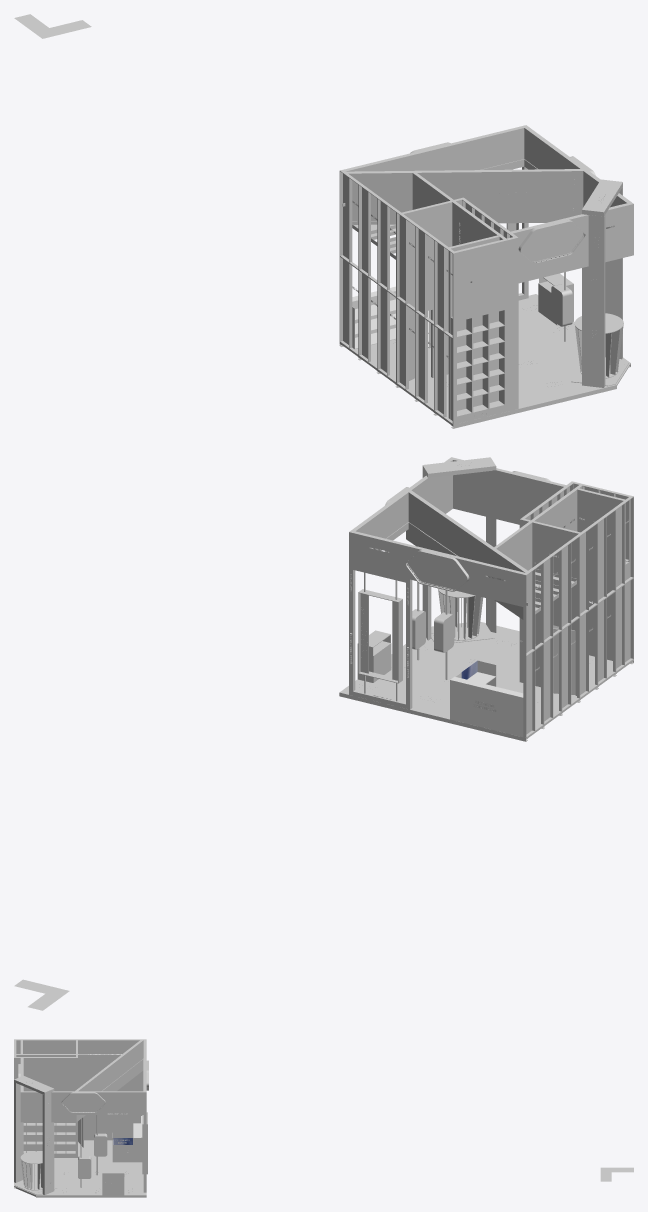
Rendered from Food_20_Indomie_CONST_PROXY.glb.
The picture shows the model from 3 angles, top to bottom: view 1: azimuth 30°, elevation 25°; view 2: azimuth 150°, elevation 25°; view 3: azimuth 270°, elevation 25°; orthographic projection. The views are drawn at different scales.
Visible parts, largest first — view 1: Geom3D_Короб 2500×1000×94 (×12), Geom3D_КОРОБ 2678Х130Х1500 (×2), Geom3D_Короб 1867×1000×130 (×3), Geom3D_ЛДСП СОНОМА 2700Х1500 КАТАЕМ В КРУГ ПОДИУМ (×3), Geom3D_СТЕЛЛАЖ МДФ 16ММ 2800Х499Х300 (×3), Geom3D_КОРОБ СО СКОСОМ И ПОДСЕТКОЙ 600Х130Х2800 (×2), Geom3D_Короб 2500×1000×100 (×2), Geom3D_Короб 2000×1000×100, Geom3D_ЛАЙТБОКС С РАДИУСАМИ 2000Х1000Х100, Geom3D_Короб 2500×300×100 (×2), Geom3D_Короб 1813×1000×130 (×2), Geom3D_Короб 1850×1000×130 (+14 smaller); view 2: Geom3D_Короб 2500×1000×94 (×12), Geom3D_ЛДСП СОНОМА 2700Х1500 КАТАЕМ В КРУГ ПОДИУМ (×4), Geom3D_Короб 1867×1000×130 (×2), Geom3D_КОРОБ 2678Х130Х1500 (×2), Geom3D_Короб 1850×1000×130 (×2), Geom3D_ЛДСП БЕЛОЕ 2350Х1200 КАТАЕМВ КРУГ, Geom3D_Короб 2500×1000×100 (×2), Geom3D_ЛАЙТБОКС ДВУХСТОРОННИЙ 1300Х250Х2500, Geom3D_ЛАЙТБОКС С РАДИУСАМИ 2000Х1000Х100, Geom3D_Короб 1813×1000×130 (×2), Geom3D_КОРОБ КОНУСНЫЙ Д 1300 ВЫСОТА 1400, Geom3D_Короб 2800×500×130 (+5 smaller); view 3: Geom3D_Короб 2500×1000×94 (×9), Geom3D_ЛДСП СОНОМА 2700Х1500 КАТАЕМ В КРУГ ПОДИУМ (×3), Geom3D_Короб 1813×1000×130 (×2), Geom3D_Короб 2000×1000×100 (×2), Geom3D_КОРОБ 2678Х130Х1500 (×2), Geom3D_КОРОБ СО СКОСОМ И ПОДСЕТКОЙ 600Х130Х2800 (×2), Geom3D_ЛАЙТБОКС С РАДИУСАМИ 2000Х1000Х100, Geom3D_КОРОБ 1845Х1500 СО СКОСОМ, Geom3D_КОРОБ КОНУСНЫЙ Д 1300 ВЫСОТА 1400, Geom3D_Короб 2500×1000×100 (×2), Geom3D_СТЕЛЛАЖ 600Х300Х1000 УГЛЫ РАДИАЛЬНЫЕ (×2), Geom3D_ТУМБА ЛДСП БЕЛОЕ 1000Х500Х1100 (+9 smaller).
Boxes of the visible parts, x1,y1,x2,y2 form: Geom3D_Короб 2500×1000×94 (×12): (339,170,456,424); Geom3D_КОРОБ 2678Х130Х1500 (×2): (363,169,565,223); Geom3D_Короб 1867×1000×130 (×3): (343,125,528,171); Geom3D_ЛДСП СОНОМА 2700Х1500 КАТАЕМ В КРУГ ПОДИУМ (×3): (518,322,616,406); Geom3D_СТЕЛЛАЖ МДФ 16ММ 2800Х499Х300 (×3): (450,309,505,416); Geom3D_КОРОБ СО СКОСОМ И ПОДСЕТКОЙ 600Х130Х2800 (×2): (582,258,621,387); Geom3D_Короб 2500×1000×100 (×2): (402,205,498,406); Geom3D_Короб 2000×1000×100: (455,243,488,321); Geom3D_ЛАЙТБОКС С РАДИУСАМИ 2000Х1000Х100: (518,220,586,263); Geom3D_Короб 2500×300×100 (×2): (507,236,518,410); Geom3D_Короб 1813×1000×130 (×2): (524,127,596,205); Geom3D_Короб 1850×1000×130: (571,202,633,252); Geom3D_Короб 2500×1000×94 (×12): (523,495,633,737); Geom3D_ЛДСП СОНОМА 2700Х1500 КАТАЕМ В КРУГ ПОДИУМ (×4): (377,622,519,719); Geom3D_Короб 1867×1000×130 (×2): (349,530,524,606); Geom3D_КОРОБ 2678Х130Х1500 (×2): (416,496,520,615); Geom3D_Короб 1850×1000×130 (×2): (449,457,565,511); Geom3D_ЛДСП БЕЛОЕ 2350Х1200 КАТАЕМВ КРУГ: (450,680,523,737); Geom3D_Короб 2500×1000×100 (×2): (547,488,609,614); Geom3D_ЛАЙТБОКС ДВУХСТОРОННИЙ 1300Х250Х2500: (358,589,402,683); Geom3D_ЛАЙТБОКС С РАДИУСАМИ 2000Х1000Х100: (405,550,469,591); Geom3D_Короб 1813×1000×130 (×2): (384,459,452,536); Geom3D_КОРОБ КОНУСНЫЙ Д 1300 ВЫСОТА 1400: (438,588,483,640); Geom3D_Короб 2800×500×130: (453,492,530,524); Geom3D_Короб 2500×1000×94 (×9): (14,1039,146,1140); Geom3D_ЛДСП СОНОМА 2700Х1500 КАТАЕМ В КРУГ ПОДИУМ (×3): (54,1160,143,1185); Geom3D_Короб 1813×1000×130 (×2): (23,1091,143,1112); Geom3D_Короб 2000×1000×100 (×2): (31,1057,75,1091); Geom3D_КОРОБ 2678Х130Х1500 (×2): (80,1043,138,1117); Geom3D_КОРОБ СО СКОСОМ И ПОДСЕТКОЙ 600Х130Х2800 (×2): (16,1122,54,1182); Geom3D_ЛАЙТБОКС С РАДИУСАМИ 2000Х1000Х100: (61,1092,105,1113); Geom3D_КОРОБ 1845Х1500 СО СКОСОМ: (78,1054,121,1084); Geom3D_КОРОБ КОНУСНЫЙ Д 1300 ВЫСОТА 1400: (20,1151,42,1190); Geom3D_Короб 2500×1000×100 (×2): (31,1122,75,1150); Geom3D_СТЕЛЛАЖ 600Х300Х1000 УГЛЫ РАДИАЛЬНЫЕ (×2): (78,1133,107,1178); Geom3D_ТУМБА ЛДСП БЕЛОЕ 1000Х500Х1100: (102,1168,124,1195).
Size of the model in its own units: 6 by 5.25 by 28.08.
2 materials, 1 textured.
